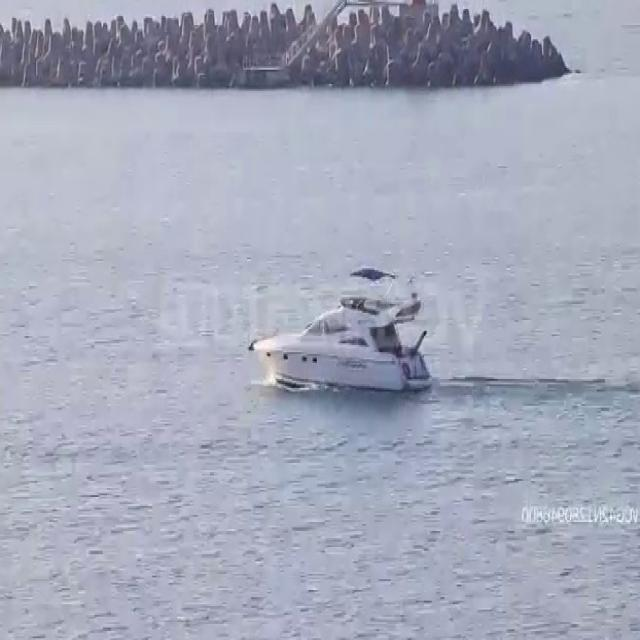houseboat: (246, 262, 436, 398)
